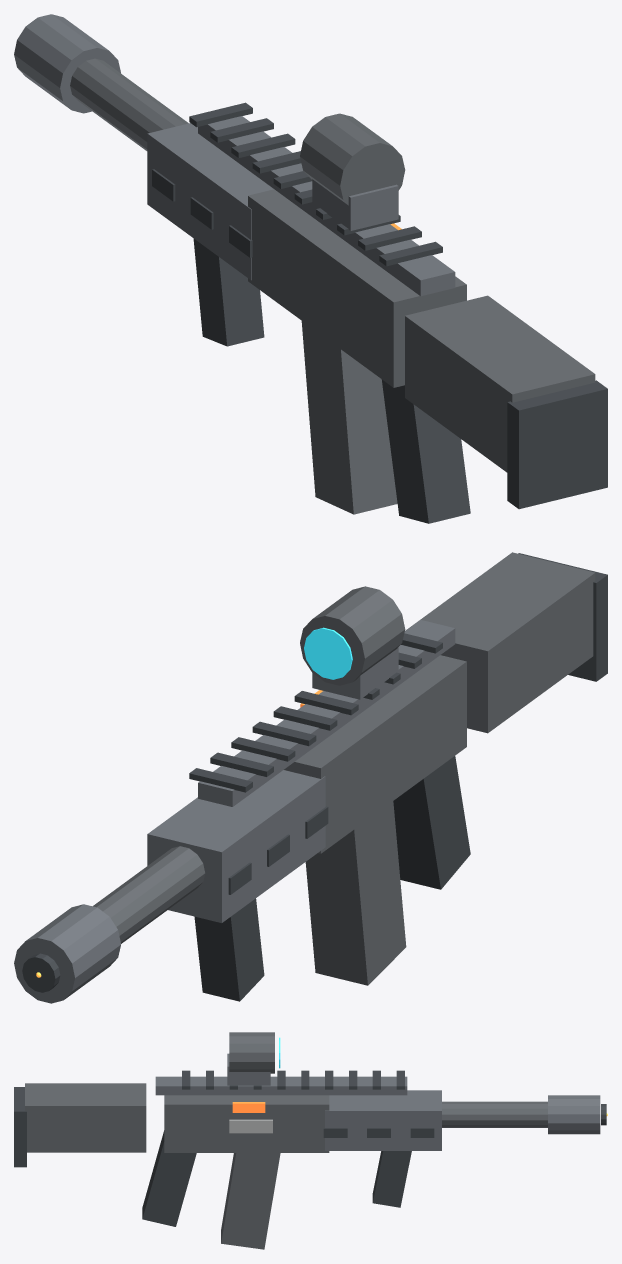
Rendered from aegis_assault_rifle.glb.
3 views of the same model, one above another, from view 1: azimuth 30°, elevation 25°; view 2: azimuth 150°, elevation 25°; view 3: azimuth 270°, elevation 25° (orthographic). The views are drawn at different scales.
Visible parts, largest first — view 1: receiver_1, adjustable_stock_15, magazine_13, stock_padding_16, forward_handguard_3, pistol_grip_14, red_dot_optic_29, top_rail_17, muzzle_brake_11, steel_barrel_10, angled_foregrip_31, optic_base_28 (+5 smaller); view 2: adjustable_stock_15, receiver_1, forward_handguard_3, magazine_13, pistol_grip_14, muzzle_brake_11, top_rail_17, red_dot_optic_29, angled_foregrip_31, steel_barrel_10, stock_padding_16, optic_glass_30 (+8 smaller); view 3: receiver_1, adjustable_stock_15, forward_handguard_3, magazine_13, top_rail_17, pistol_grip_14, steel_barrel_10, muzzle_brake_11, red_dot_optic_29, angled_foregrip_31, stock_padding_16, optic_base_28 (+2 smaller).
Part boxes in pixels (<box>): receiver_1: <box>248,189,466,387</box>; adjustable_stock_15: <box>405,295,595,472</box>; magazine_13: <box>301,321,397,514</box>; stock_padding_16: <box>507,380,607,509</box>; forward_handguard_3: <box>147,123,273,280</box>; pistol_grip_14: <box>381,379,470,523</box>; red_dot_optic_29: <box>300,113,405,205</box>; top_rail_17: <box>198,116,455,296</box>; muzzle_brake_11: <box>14,14,120,113</box>; steel_barrel_10: <box>70,58,188,150</box>; angled_foregrip_31: <box>193,239,264,346</box>; optic_base_28: <box>312,179,398,230</box>; adjustable_stock_15: <box>405,552,595,733</box>; receiver_1: <box>284,655,466,853</box>; forward_handguard_3: <box>147,770,325,922</box>; magazine_13: <box>305,801,406,985</box>; pistol_grip_14: <box>393,756,470,889</box>; muzzle_brake_11: <box>14,904,120,1003</box>; top_rail_17: <box>198,620,455,806</box>; red_dot_optic_29: <box>300,586,405,685</box>; angled_foregrip_31: <box>194,898,264,1001</box>; steel_barrel_10: <box>93,846,205,943</box>; stock_padding_16: <box>518,553,607,681</box>; optic_glass_30: <box>304,627,352,679</box>; receiver_1: <box>164,1095,329,1152</box>; adjustable_stock_15: <box>25,1083,146,1152</box>; forward_handguard_3: <box>325,1090,441,1150</box>; magazine_13: <box>221,1153,280,1249</box>; top_rail_17: <box>155,1076,407,1095</box>; pistol_grip_14: <box>142,1130,196,1226</box>; steel_barrel_10: <box>442,1101,547,1127</box>; muzzle_brake_11: <box>548,1095,600,1134</box>; red_dot_optic_29: <box>229,1032,274,1073</box>; angled_foregrip_31: <box>372,1151,411,1207</box>; stock_padding_16: <box>14,1087,26,1167</box>; optic_base_28: <box>227,1053,270,1085</box>.
Size of the model in its own units: 0.134 by 0.5299 by 1.37.
